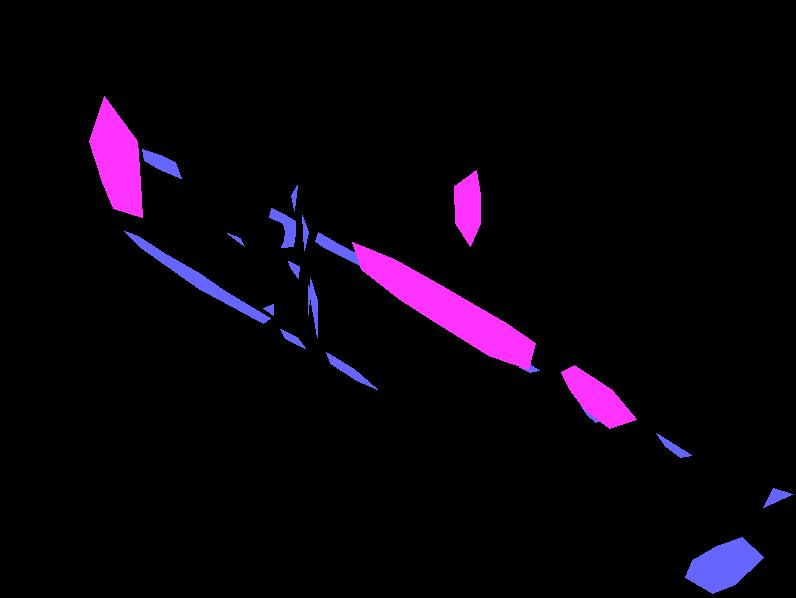Dent: (352, 242, 535, 369), (89, 96, 142, 217), (561, 365, 636, 428), (454, 170, 480, 246)
Paint chip: (108, 127, 119, 150)
Scratch: (315, 232, 467, 321), (124, 231, 270, 323), (685, 537, 763, 593), (326, 352, 377, 389), (142, 149, 181, 178), (269, 208, 295, 247), (656, 433, 691, 457), (489, 325, 521, 347), (763, 488, 792, 507), (308, 278, 317, 337), (280, 329, 305, 348), (517, 355, 539, 372), (581, 406, 604, 422), (579, 381, 598, 395), (227, 233, 244, 246), (302, 215, 308, 250), (288, 261, 299, 278), (291, 185, 297, 210), (605, 403, 618, 414), (263, 304, 273, 315)
